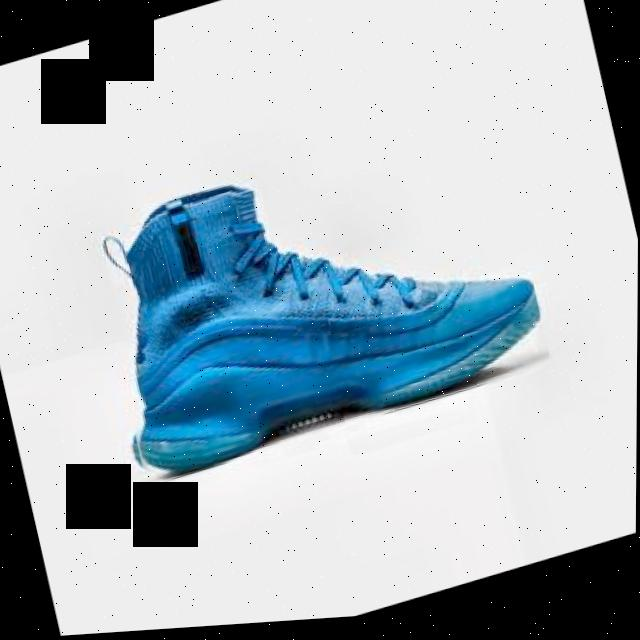shoe: (79, 106, 554, 493)
